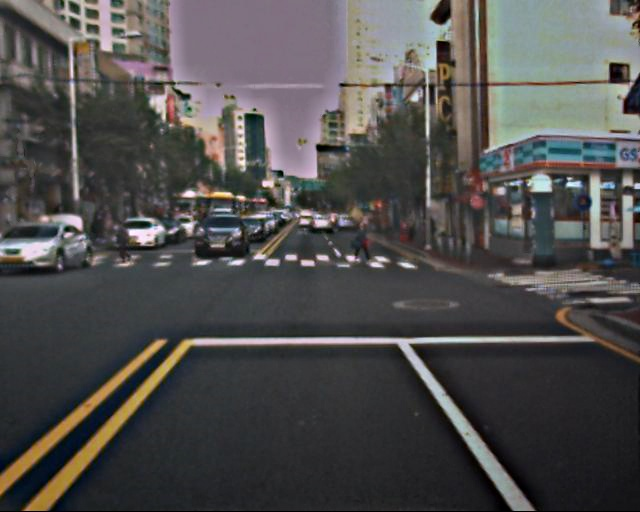person: (351, 219, 371, 268), (112, 221, 131, 267)
